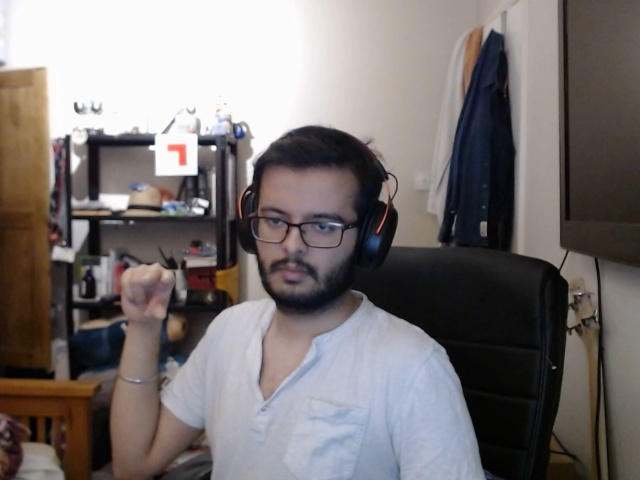No: (114, 258, 186, 330)
